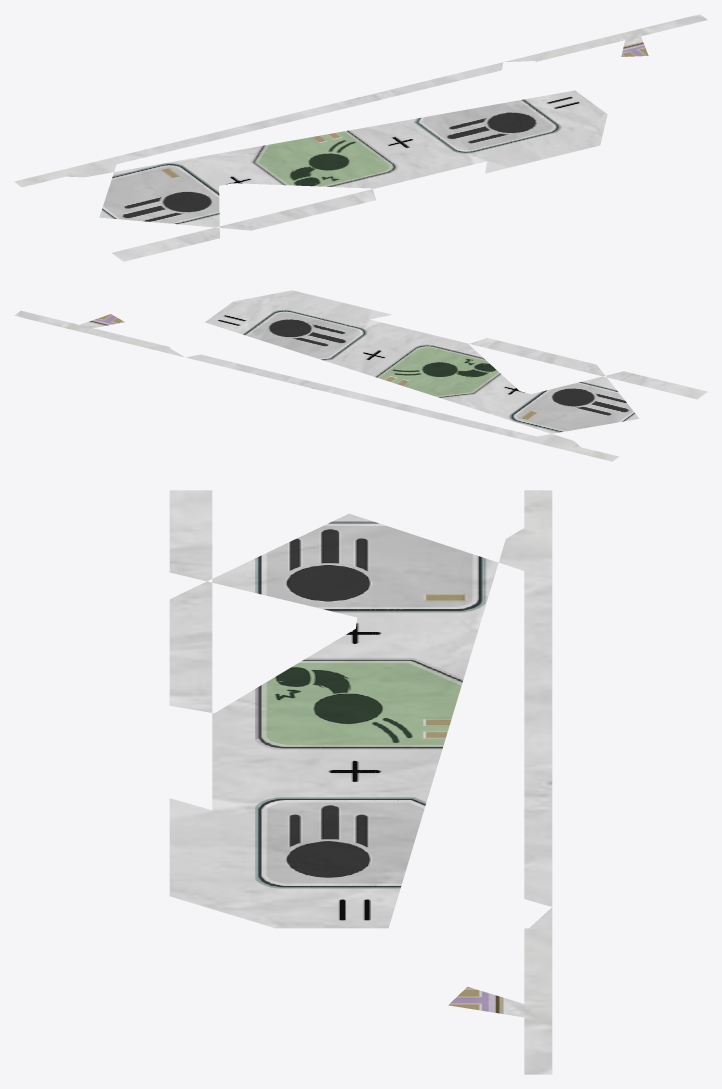
Rendered from Blueprint7.fbx.
The picture shows the model from 3 angles, top to bottom: view 1: azimuth 30°, elevation 25°; view 2: azimuth 150°, elevation 25°; view 3: azimuth 270°, elevation 25°; orthographic projection. The views are drawn at different scales.
Visible parts, largest first — view 1: 平面.006; view 2: 平面.006; view 3: 平面.006.
Boxes of the visible parts, bbox=[...] form: 平面.006: bbox=[14, 14, 707, 261]; 平面.006: bbox=[14, 290, 707, 461]; 平面.006: bbox=[169, 490, 552, 1074].
Size of the model in its own units: 252 by 0 by 69.86.
1 material, 1 textured.
